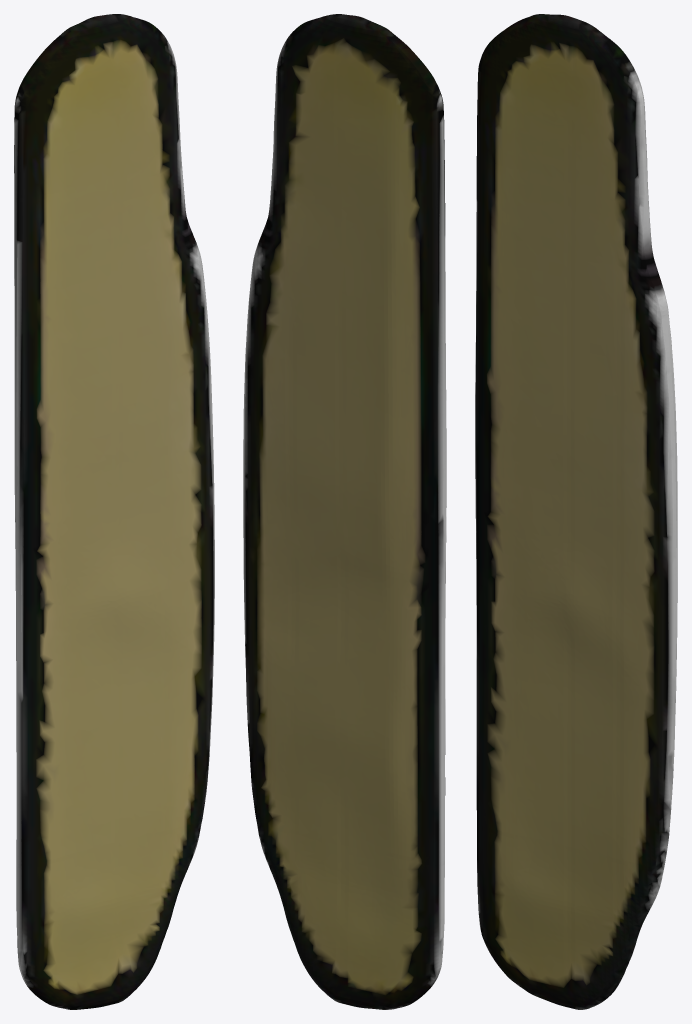
File: leather_strips.glb
The picture shows the model from 3 angles, left to right: view 1: azimuth 30°, elevation 25°; view 2: azimuth 150°, elevation 25°; view 3: azimuth 330°, elevation 25°; orthographic projection.
Parts seen in each view (by area): view 1: geometry_0; view 2: geometry_0; view 3: geometry_0.
Boxes of the visible parts, x1=… form: geometry_0: x1=14, y1=14, x2=214, y2=1009; geometry_0: x1=243, y1=14, x2=446, y2=1009; geometry_0: x1=475, y1=14, x2=677, y2=1009.
Size of the model in its own units: 0.1875 by 0.888 by 0.0229.
